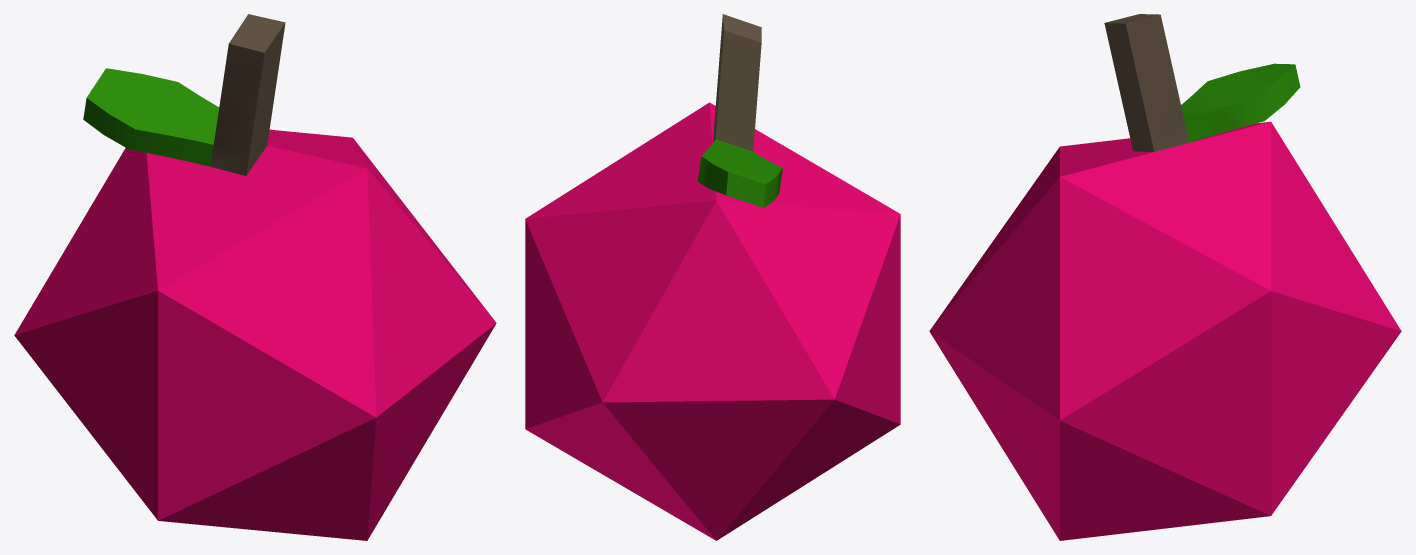
The model's file is PinkFruit.fbx.
3 views of the same model, side by side, from view 1: azimuth 30°, elevation 25°; view 2: azimuth 150°, elevation 25°; view 3: azimuth 270°, elevation 25° (orthographic). The views are drawn at different scales.
Visible parts, largest first — view 1: pPlatonic1.018, pPlatonic1.020, pPlatonic1.019; view 2: pPlatonic1.018, pPlatonic1.019, pPlatonic1.020; view 3: pPlatonic1.018, pPlatonic1.019, pPlatonic1.020.
Part boxes in pixels (<box>): pPlatonic1.018: <box>14,129,496,540</box>; pPlatonic1.020: <box>83,68,219,166</box>; pPlatonic1.019: <box>210,14,285,175</box>; pPlatonic1.018: <box>525,102,900,540</box>; pPlatonic1.019: <box>713,14,761,151</box>; pPlatonic1.020: <box>697,139,782,207</box>; pPlatonic1.018: <box>929,121,1401,540</box>; pPlatonic1.019: <box>1104,14,1189,151</box>; pPlatonic1.020: <box>1181,63,1300,142</box>.
Size of the model in its own units: 52.15 by 67.32 by 58.31.
